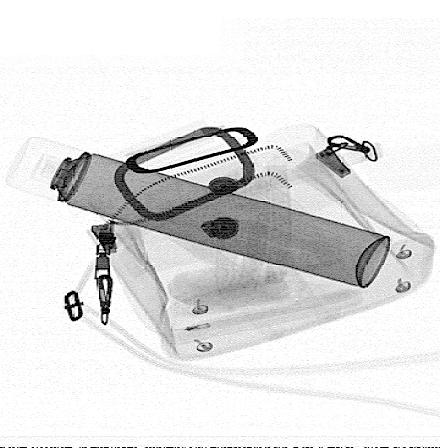Sprayer: (3, 135, 393, 289)
